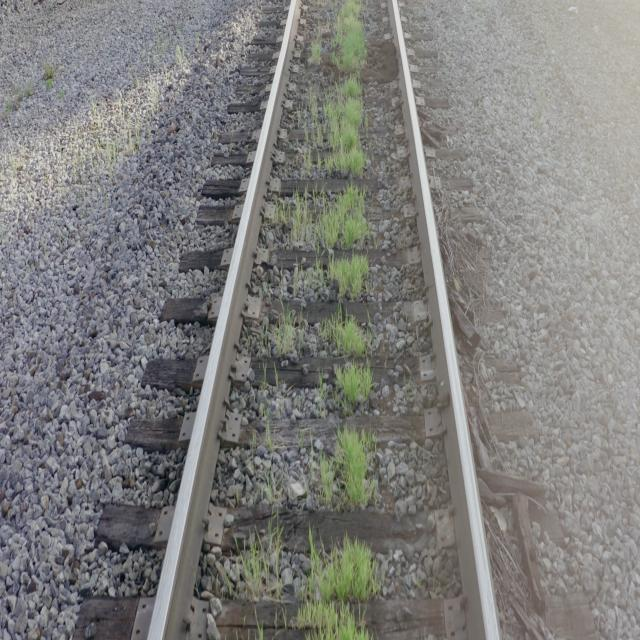Plant: (274, 0, 370, 300), (300, 536, 379, 638), (319, 316, 371, 411), (319, 427, 371, 509), (241, 533, 280, 598), (278, 320, 301, 356), (311, 40, 324, 60)
